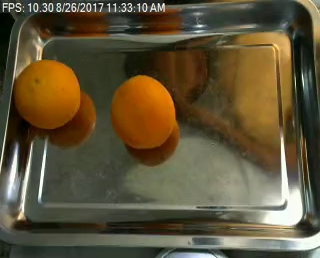Orange: (111, 74, 177, 148), (13, 59, 81, 127)
